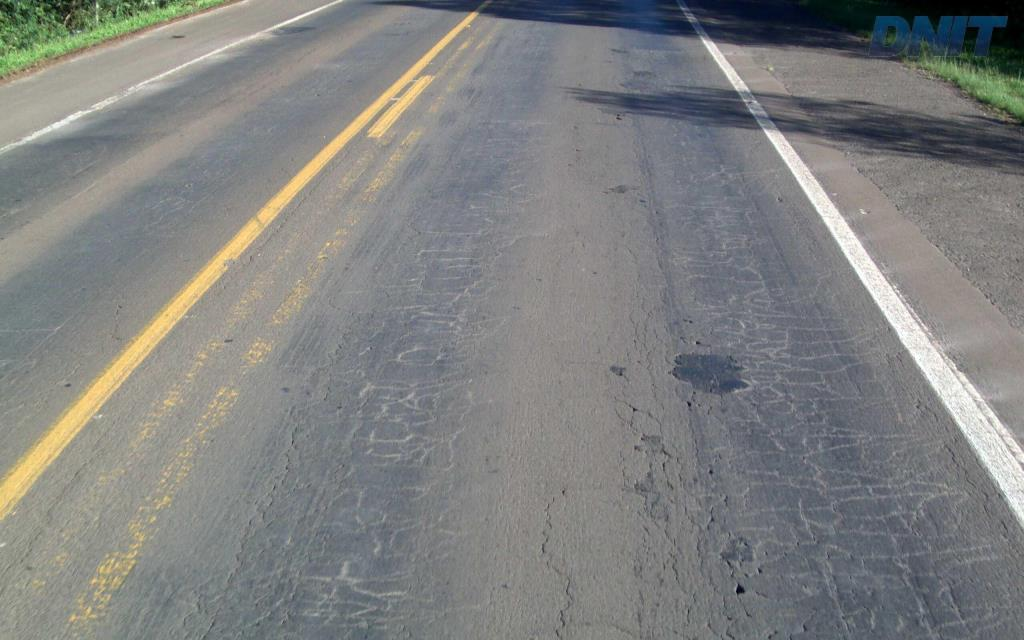crack: (716, 516, 752, 617), (718, 592, 740, 639)
pothole: (729, 579, 748, 599)
